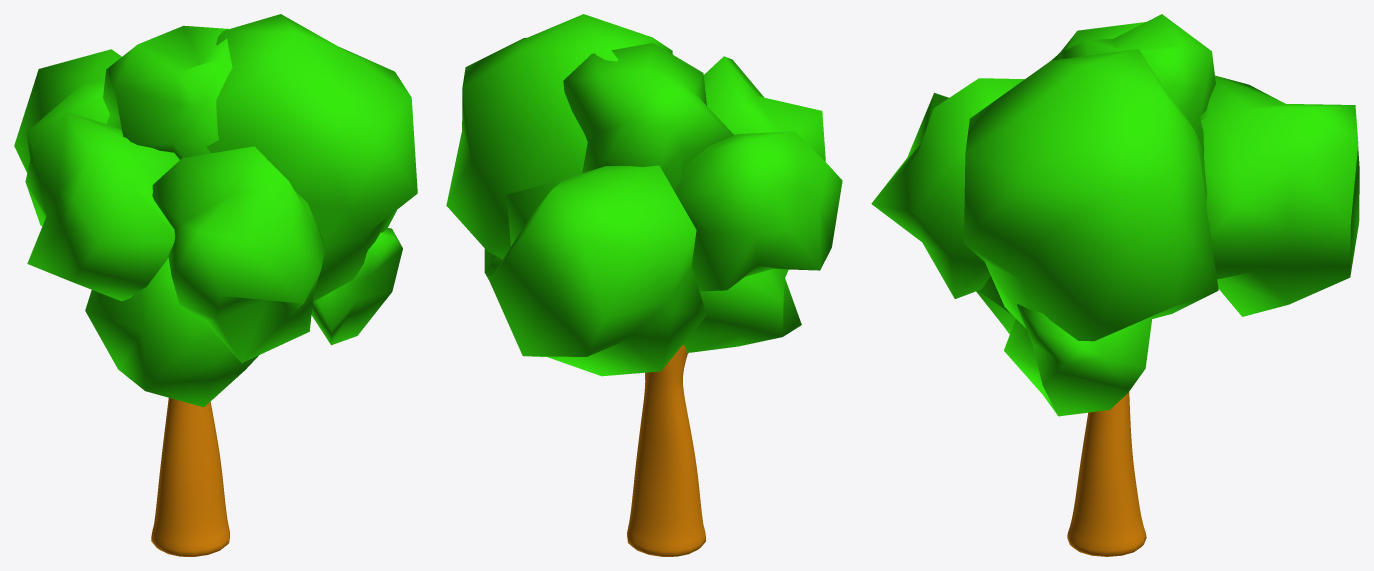
File: Tree1-alt.fbx
3 views of the same model, side by side, from view 1: azimuth 30°, elevation 25°; view 2: azimuth 150°, elevation 25°; view 3: azimuth 270°, elevation 25° (orthographic). The views are drawn at different scales.
Parts seen in each view (by area): view 1: Tree1; view 2: Tree1; view 3: Tree1.
Part boxes in pixels (x1,y1,x2,y2): Tree1: (14,14,417,556); Tree1: (446,14,842,556); Tree1: (871,14,1359,556).
Size of the model in its own units: 1127 by 1487 by 1251.
